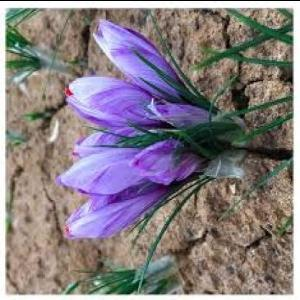Saffron: (90, 19, 196, 97), (64, 69, 174, 140), (57, 186, 168, 240), (49, 145, 169, 192), (149, 86, 231, 147)
